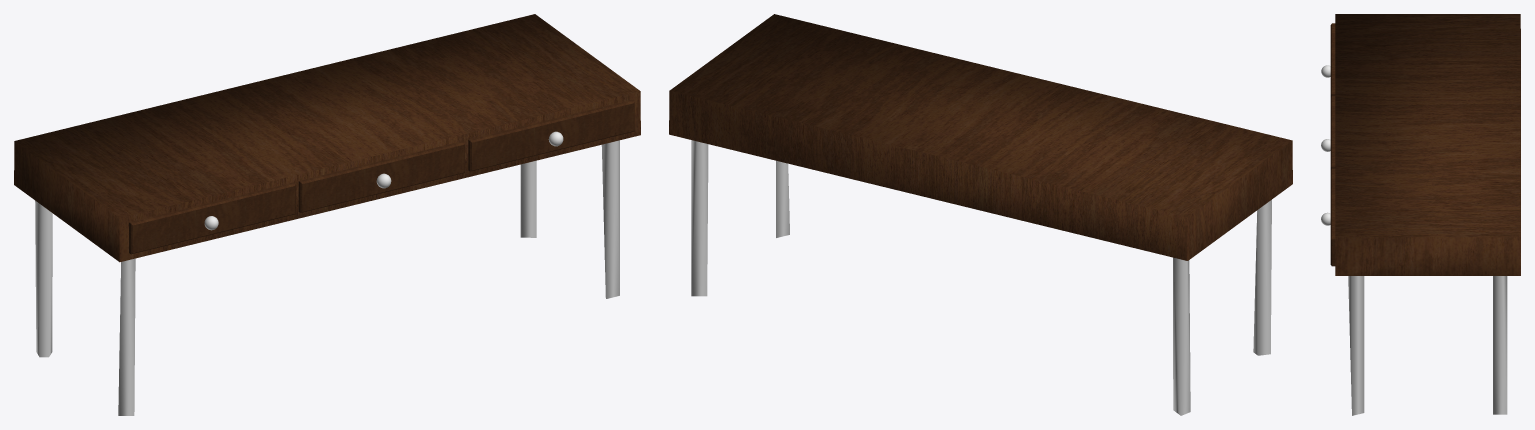
Rendered from table.glb.
The picture shows the model from 3 angles, left to right: view 1: azimuth 30°, elevation 25°; view 2: azimuth 150°, elevation 25°; view 3: azimuth 270°, elevation 25°; orthographic projection. The views are drawn at different scales.
Visible parts, largest first — view 1: table, Plane.002, legs; view 2: table, legs; view 3: table, legs, Plane.002.
Boxes of the visible parts, x1,y1,x2,y2 form: table: (14,14,640,262); Plane.002: (129,99,634,254); legs: (35,140,619,415); table: (669,14,1292,260); legs: (691,140,1271,415); table: (1335,14,1520,275); legs: (1348,276,1507,415); Plane.002: (1330,23,1335,266).
Size of the model in its own units: 3.7 by 1.42 by 1.4.
2 materials, 1 textured.
